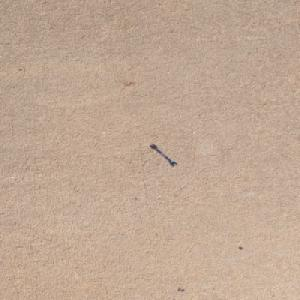Wrench: (148, 144, 177, 166)
